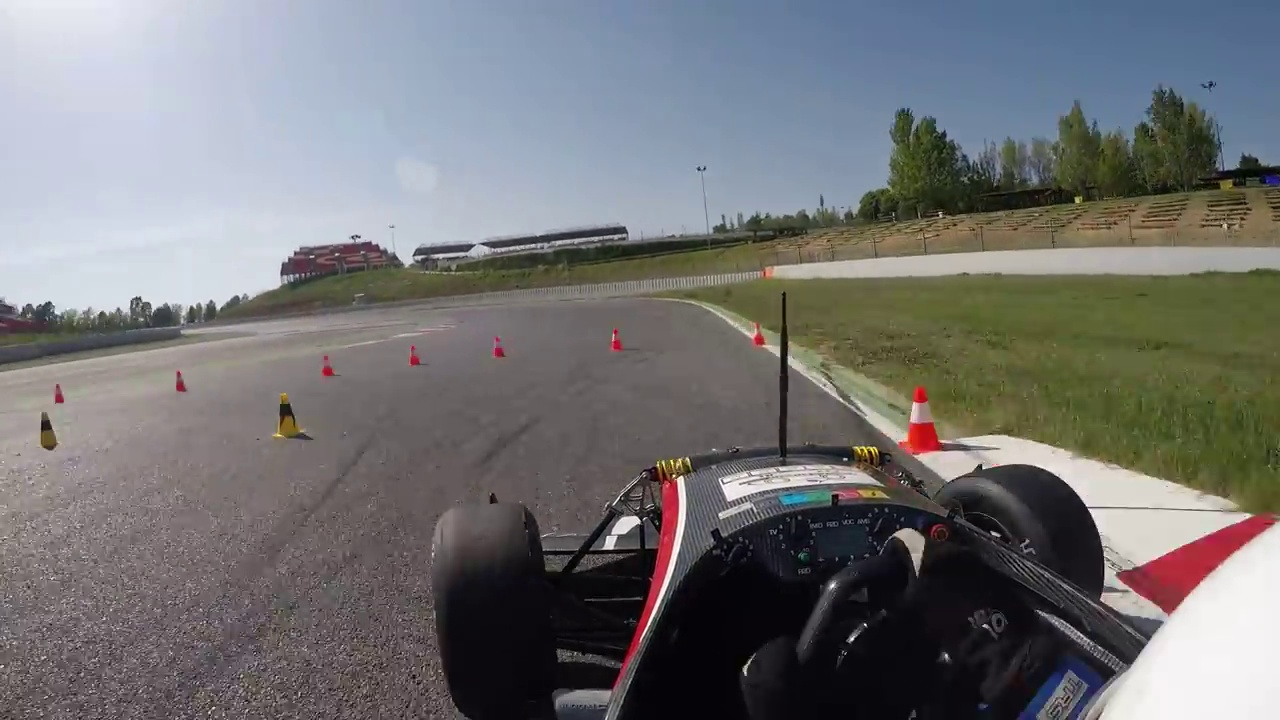Cone: (899, 385, 945, 450), (275, 391, 303, 441), (34, 411, 62, 450)
